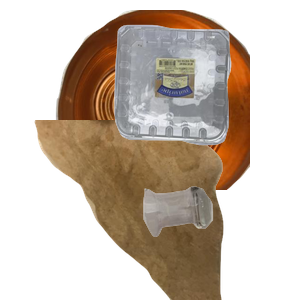glass: (141, 184, 300, 300)
metal: (53, 10, 293, 190)
plastic: (112, 22, 300, 160)
trash: (32, 120, 248, 300)
